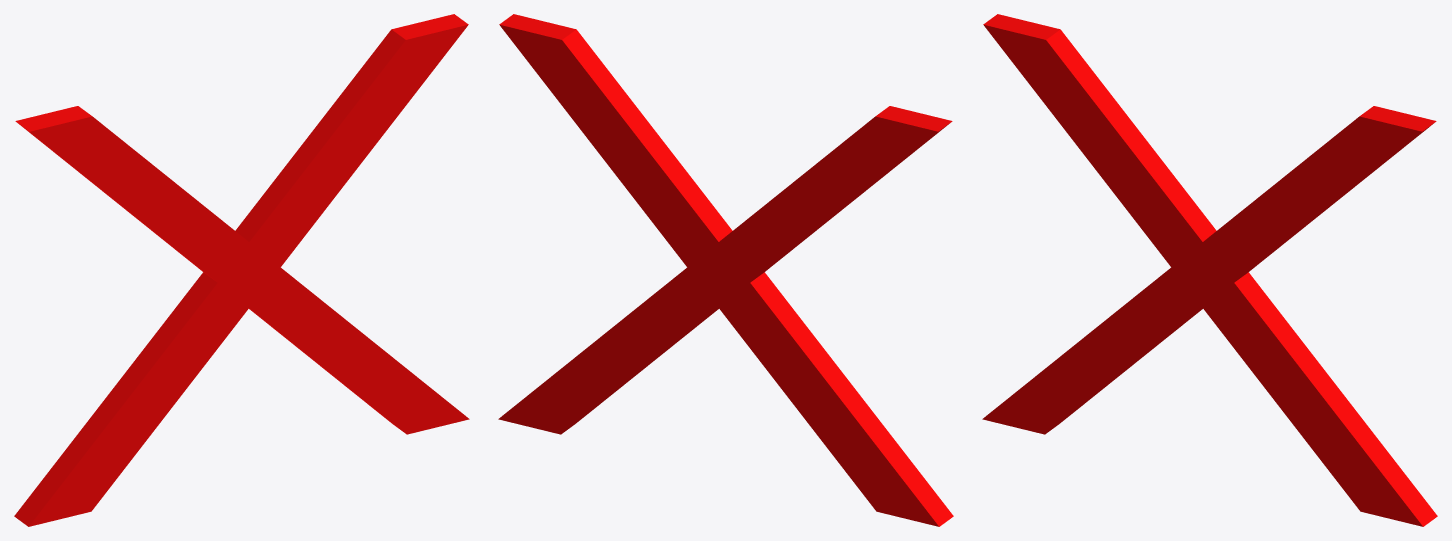
The model's file is mine.FBX.
The picture shows the model from 3 angles, left to right: view 1: azimuth 30°, elevation 25°; view 2: azimuth 150°, elevation 25°; view 3: azimuth 330°, elevation 25°; orthographic projection.
Visible parts, largest first — view 1: Box026; view 2: Box026; view 3: Box026.
Boxes of the visible parts, box(x1,y1,x2,y2) form: Box026: box(14, 14, 469, 526); Box026: box(498, 14, 953, 526); Box026: box(982, 14, 1437, 526).
Size of the model in its own units: 138 by 118 by 7.87.
